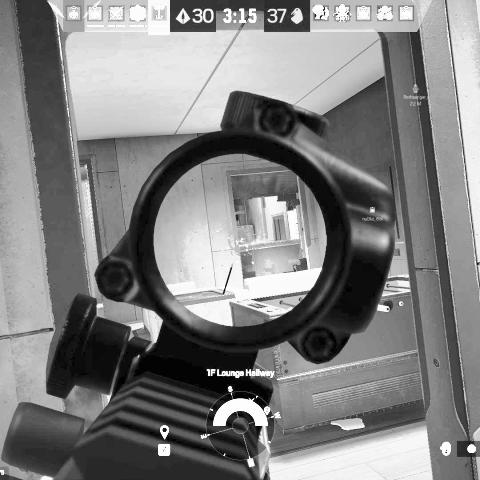Friend_label: (361, 206, 384, 222)
